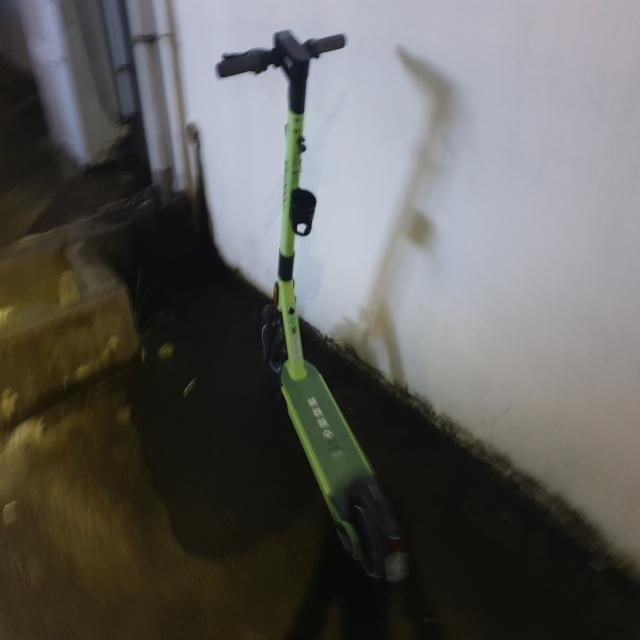bike: (211, 29, 414, 588)
